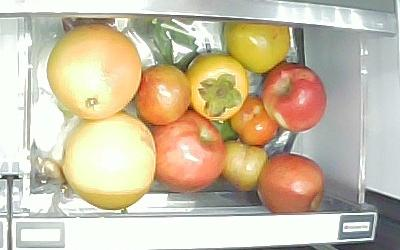apple: (146, 110, 227, 194), (261, 62, 328, 133), (256, 151, 326, 216)
grapefruit: (60, 111, 158, 210), (46, 22, 143, 121)
persimmon: (186, 53, 250, 120), (223, 18, 291, 75)
prune: (137, 64, 191, 125), (230, 94, 279, 146), (220, 139, 269, 191)
